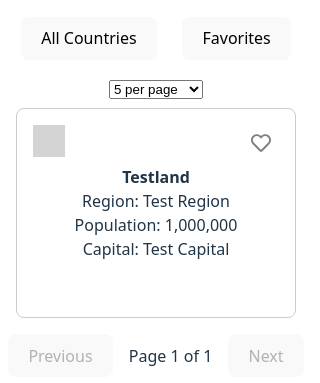
Test case: CountryList › Favorites › shows empty state when no favorites exist
Click favorites tab
Click the tab "Favorites" at (237, 38), box top-left (182, 17), bottom-right (291, 60)
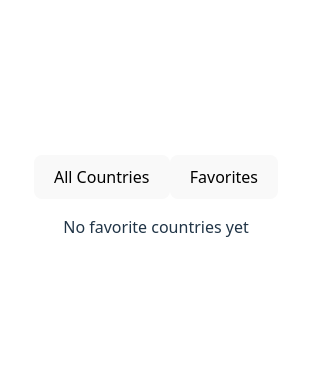
Now the text "No favorite countries yet" is shown, box top-left (63, 216), bottom-right (249, 238)
